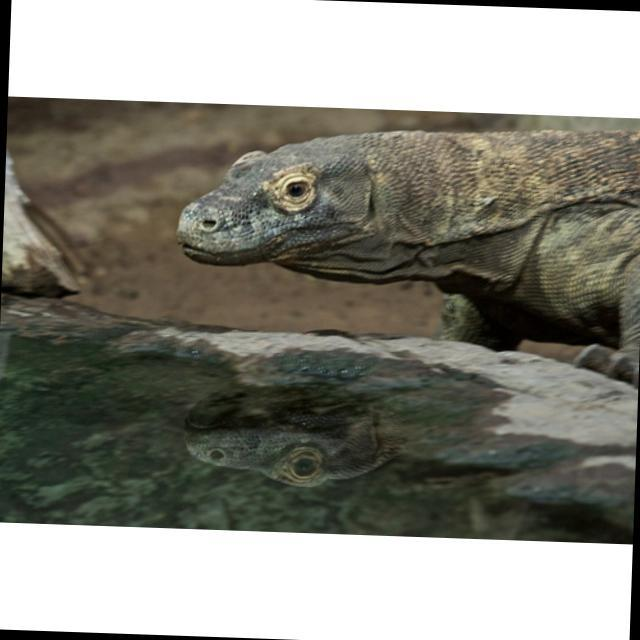KomodoDragon: (172, 110, 640, 384)
